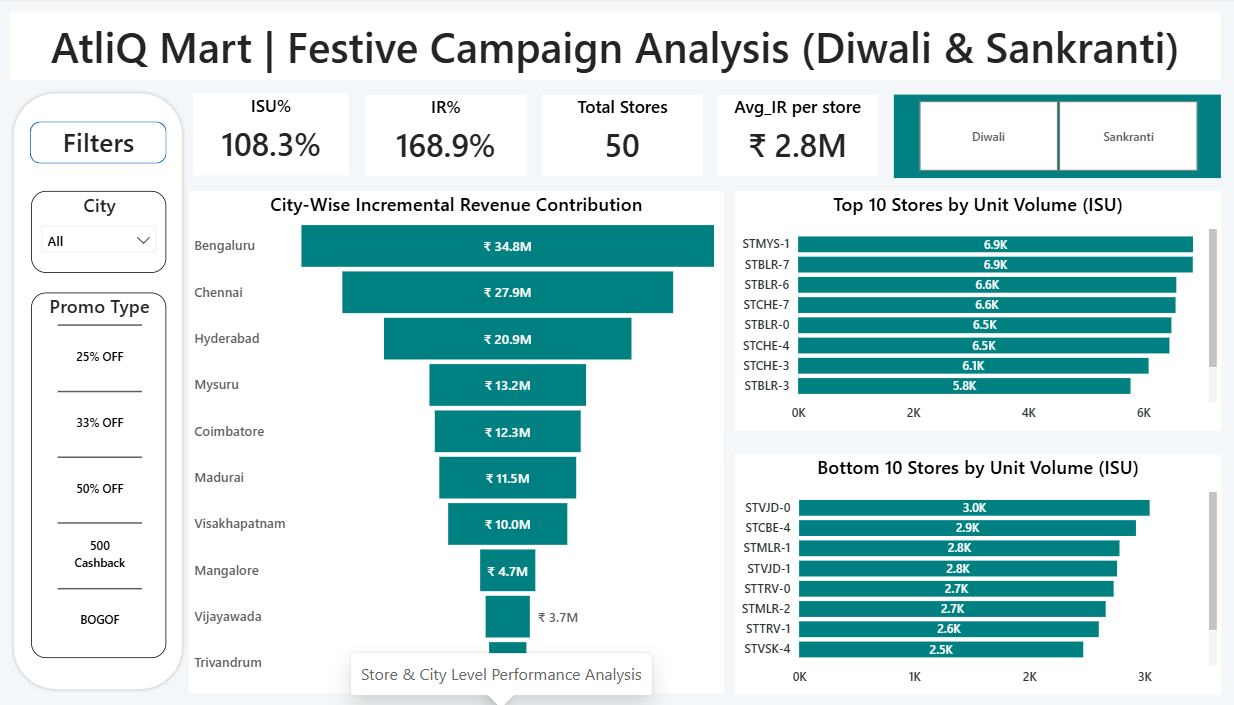

Layout of this report page (visuals, bound fields, positions):
{"tool":"powerbi","page":{"name":"Store & City Level Performance Analysis","canvas":[1280,720],"ordinal":1},"visuals":[{"type":"textbox","box":[27.6,10.8,1225.8,69.1],"z":0},{"type":"slicer","fields":{"Values":["dim_campaign.campaign_name"]},"box":[922.9,94.3,331.4,84.3],"z":1000},{"type":"shape","box":[27.1,90,178.6,611.4],"z":2000},{"type":"slicer","title":"City","fields":{"Values":["dim_stores.city"]},"box":[48.6,192.9,137.1,82.9],"z":3000},{"type":"cardVisual","title":"IR%","fields":{"Data":["Measures (2).IR %"]},"box":[386.8,94.3,162.9,82.9],"z":4000},{"type":"cardVisual","title":"Total Stores","fields":{"Data":["Measures (2).Total Store"]},"box":[565.5,94.3,162.9,82.9],"z":5000},{"type":"funnel","title":"City-Wise Incremental Revenue Contribution","fields":{"Category":["dim_stores.city"],"Y":["Measures (2).IR"]},"box":[208.6,192.9,541.4,508.6],"z":6000},{"type":"shape","box":[47.1,121.4,138.6,42.9],"z":7000},{"type":"textbox","box":[75.7,118.6,82.9,54.3],"z":8000},{"type":"cardVisual","title":"Avg_IR per store","fields":{"Data":["Measures (2).Avg_IR per store"]},"box":[744.2,94.3,162.9,82.9],"z":9000},{"type":"clusteredBarChart","title":"Top 10 Stores by Unit Volume (ISU)","fields":{"Category":["dim_stores.store_id"],"Y":["Measures (2).ISU"]},"box":[761.4,192.9,492.9,242.9],"z":10000},{"type":"slicer","title":"Promo Type","fields":{"Values":["fact_events.promo_type"]},"box":[48.6,295.7,137.1,370],"z":11000},{"type":"cardVisual","title":"ISU%","fields":{"Data":["Measures (2).ISU %"]},"box":[213,94,158,83],"z":12000},{"type":"clusteredBarChart","title":"Bottom 10 Stores by Unit Volume (ISU)","fields":{"Category":["dim_stores.store_id"],"Y":["Measures (2).ISU"]},"box":[761.4,458.6,492.9,242.9],"z":13000}]}

Visuals, with their boxes in screenshot pixels (x1, y1, x2, y2), scaled from the page's 1280x720 canvas onto the 1234x705 screenshot:
textbox: {"x1": 27, "y1": 11, "x2": 1208, "y2": 78}
slicer - dim_campaign.campaign_name: {"x1": 890, "y1": 92, "x2": 1209, "y2": 175}
shape: {"x1": 26, "y1": 88, "x2": 198, "y2": 687}
"City" slicer: {"x1": 47, "y1": 189, "x2": 179, "y2": 270}
"IR%" cardVisual: {"x1": 373, "y1": 92, "x2": 530, "y2": 174}
"Total Stores" cardVisual: {"x1": 545, "y1": 92, "x2": 702, "y2": 174}
"City-Wise Incremental Revenue Contribution" funnel: {"x1": 201, "y1": 189, "x2": 723, "y2": 687}
shape: {"x1": 45, "y1": 119, "x2": 179, "y2": 161}
textbox: {"x1": 73, "y1": 116, "x2": 153, "y2": 169}
"Avg_IR per store" cardVisual: {"x1": 717, "y1": 92, "x2": 875, "y2": 174}
"Top 10 Stores by Unit Volume (ISU)" clusteredBarChart: {"x1": 734, "y1": 189, "x2": 1209, "y2": 427}
"Promo Type" slicer: {"x1": 47, "y1": 290, "x2": 179, "y2": 652}
"ISU%" cardVisual: {"x1": 205, "y1": 92, "x2": 358, "y2": 173}
"Bottom 10 Stores by Unit Volume (ISU)" clusteredBarChart: {"x1": 734, "y1": 449, "x2": 1209, "y2": 687}
